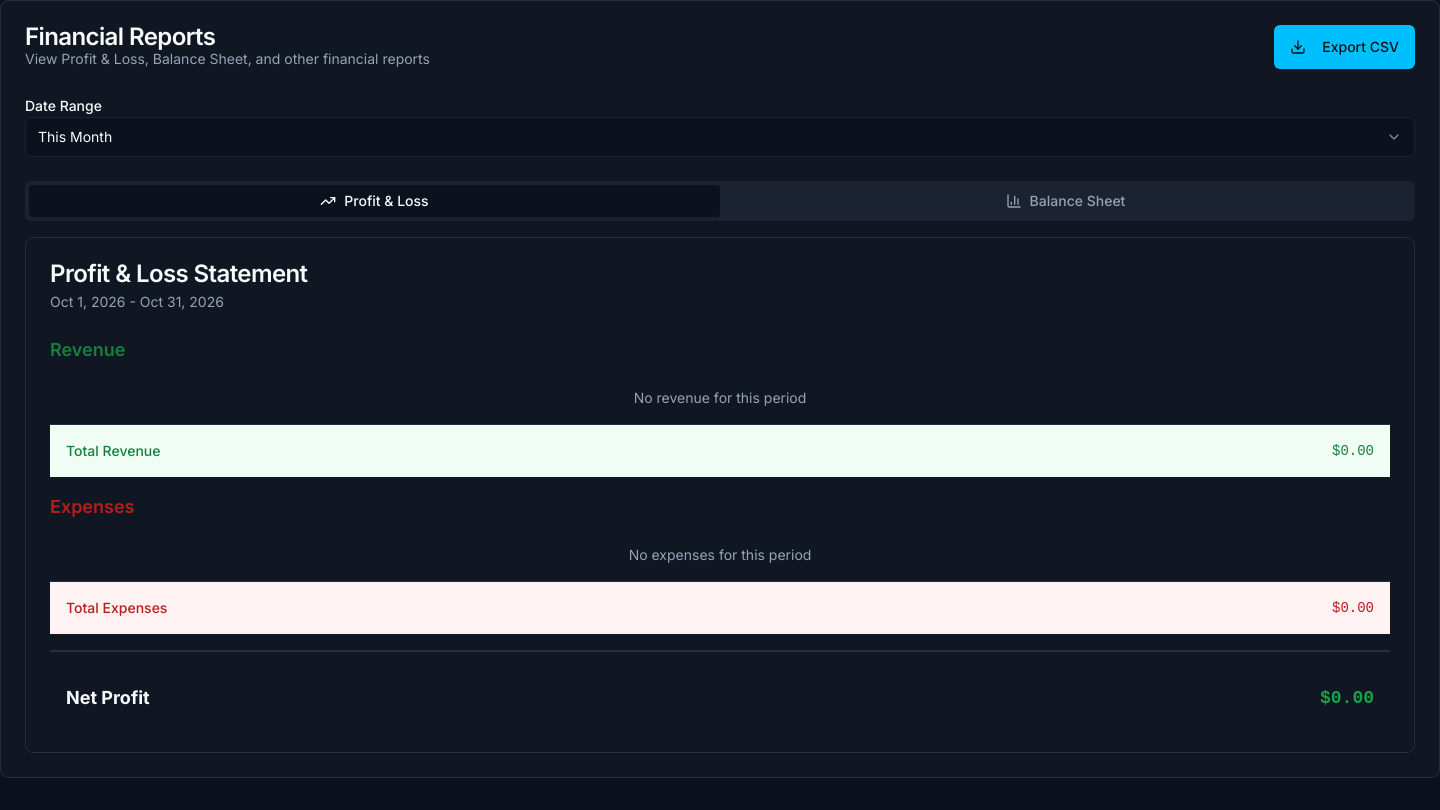
Test: FinancialReports balance sheet › sums two distinct asset accounts that share a name
The width and height of the screenshot is (1440, 810).
Check: the heading "Financial Reports" is shown, box [25,22,215,51]
Click the tab "Balance Sheet".
click(1066, 201)  # box [720,185,1411,217]
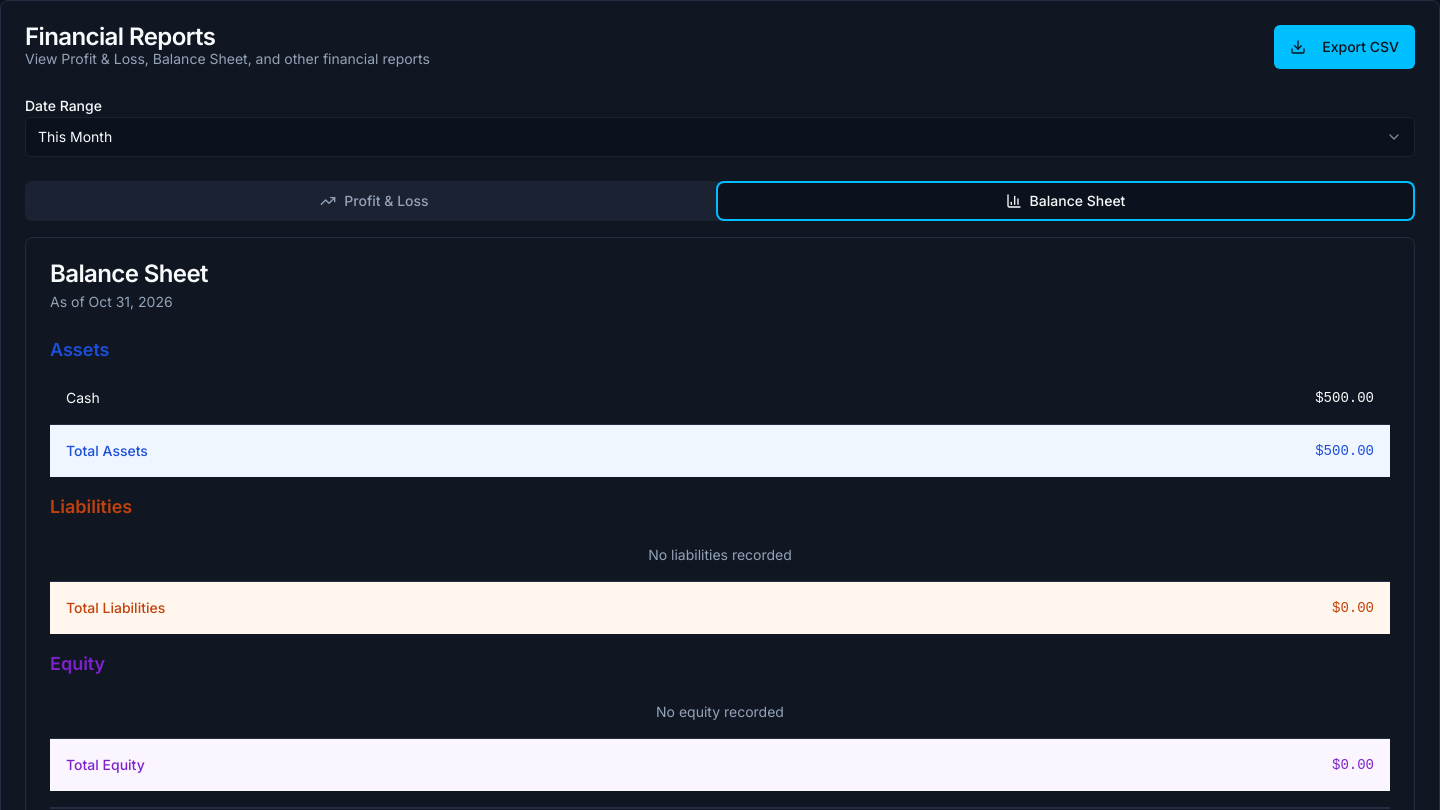
Check: the text "Total Assets" is shown, box [50,424,796,477]
Check: the text "$500.00" in the row of "Cash" is shown, box [1315,390,1374,406]
